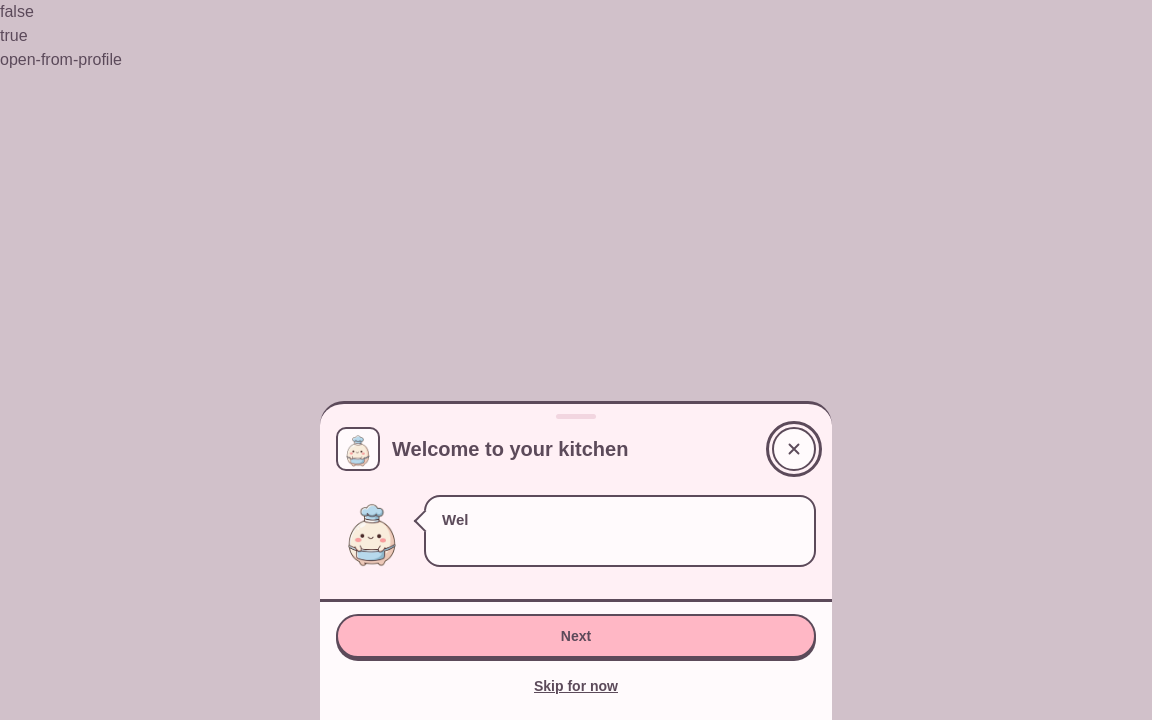
Test: the staples list › offers the staples in six groups, nothing pre-selected
Expected: the dialog with test id "staples-step" is shown, [320, 401, 832, 719]
Click the button "Next".
click(576, 636)  # box [336, 614, 816, 658]
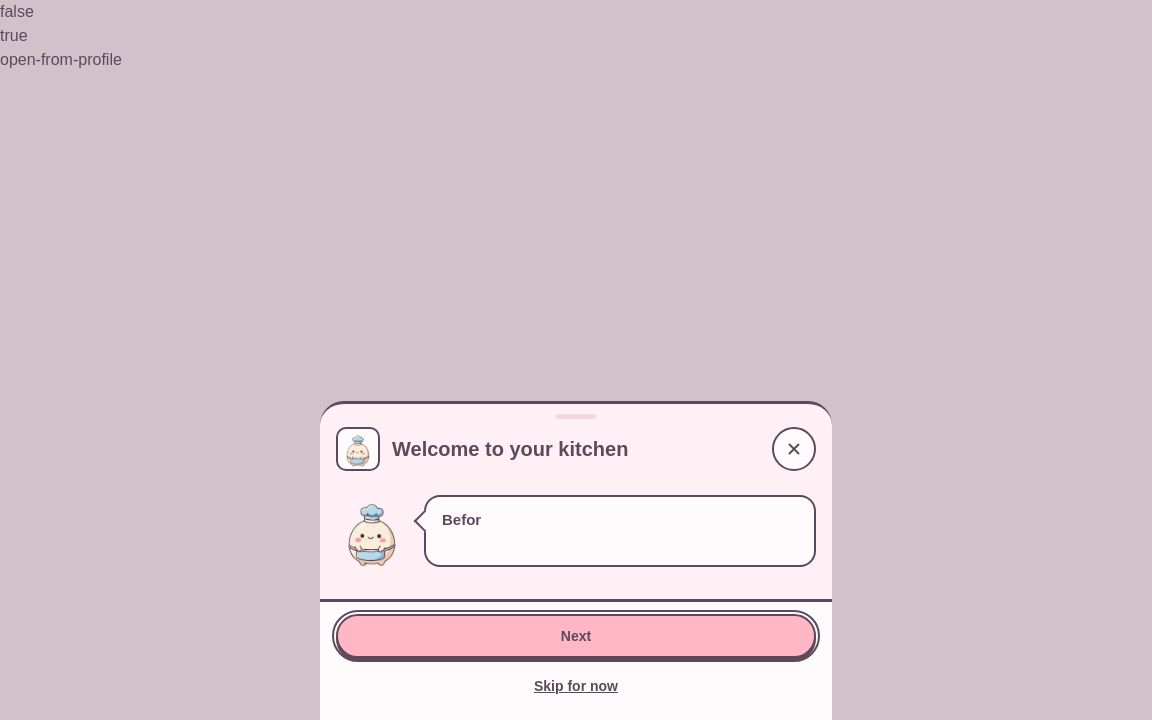
Click the button "Next".
click(576, 636)  # box [336, 614, 816, 658]
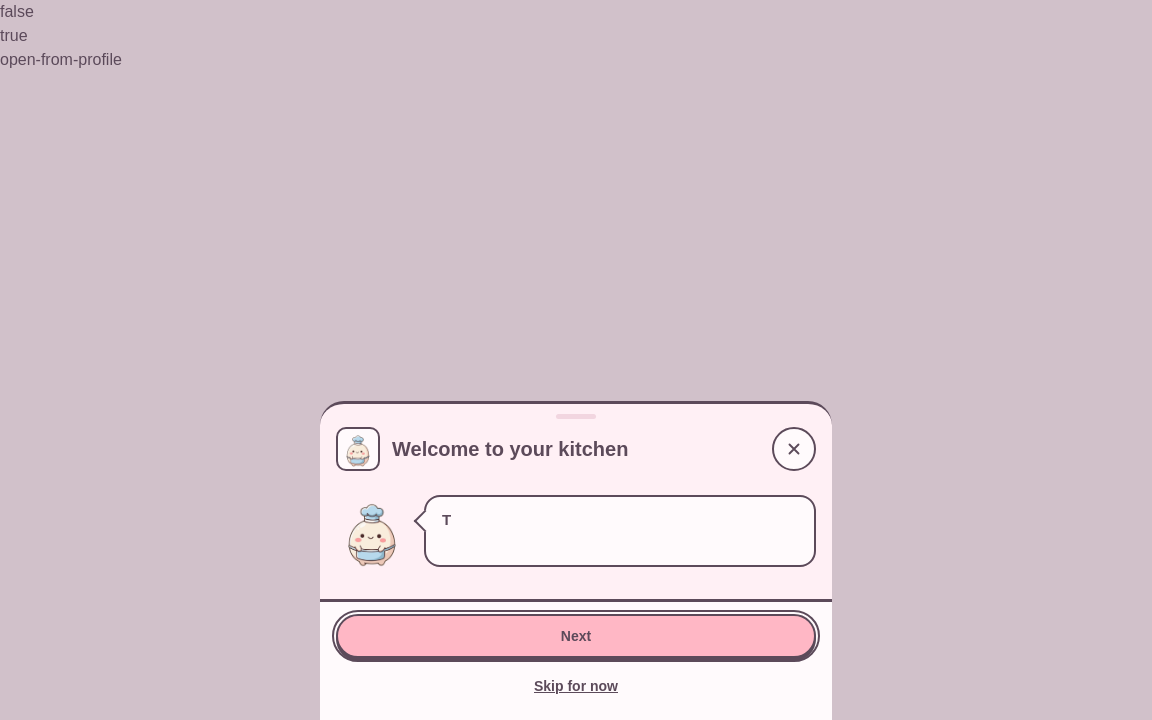
Click the button "Next".
click(576, 636)  # box [336, 614, 816, 658]
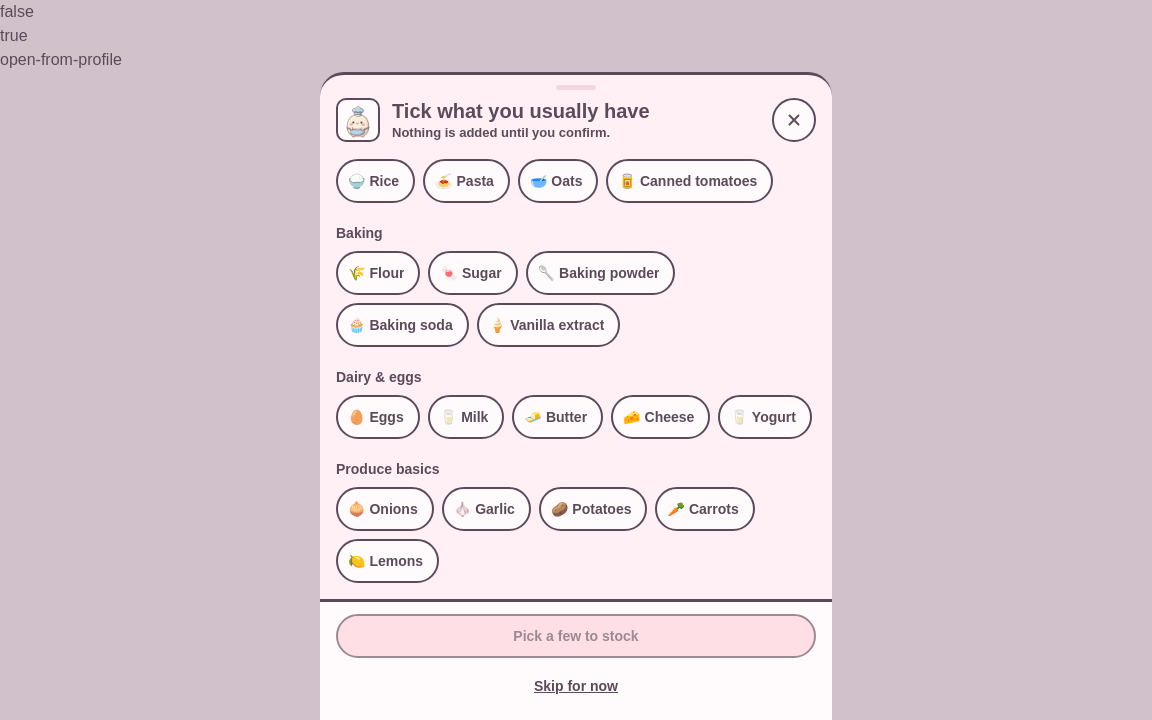
Now the button "Pick a few to stock" is disabled, box [336, 614, 816, 658]
Now the button "🍚 Rice" is shown, box [336, 159, 415, 203]
Now the button "🍝 Pasta" is shown, box [423, 159, 510, 203]
